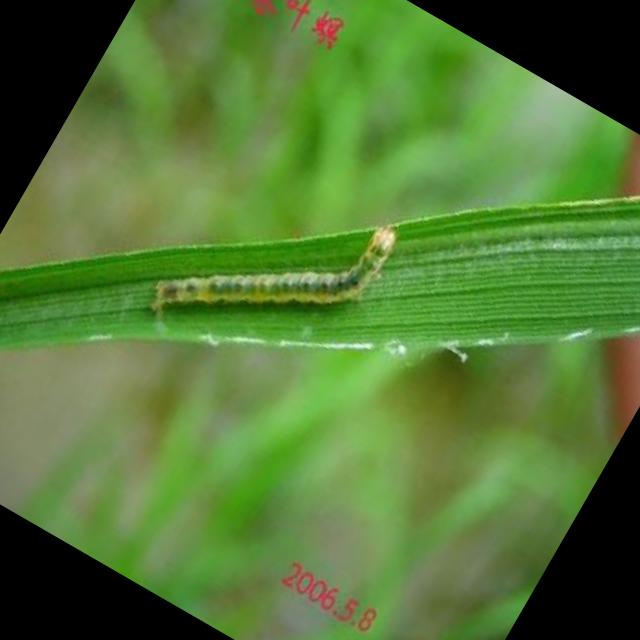leaf-folder: (135, 122, 429, 414)
